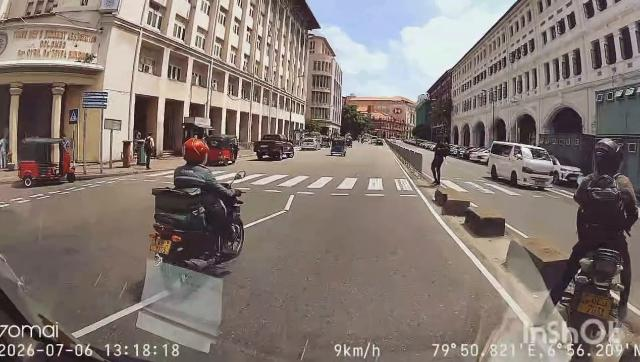illegal u turn: (560, 135, 640, 359), (578, 292, 618, 325)
